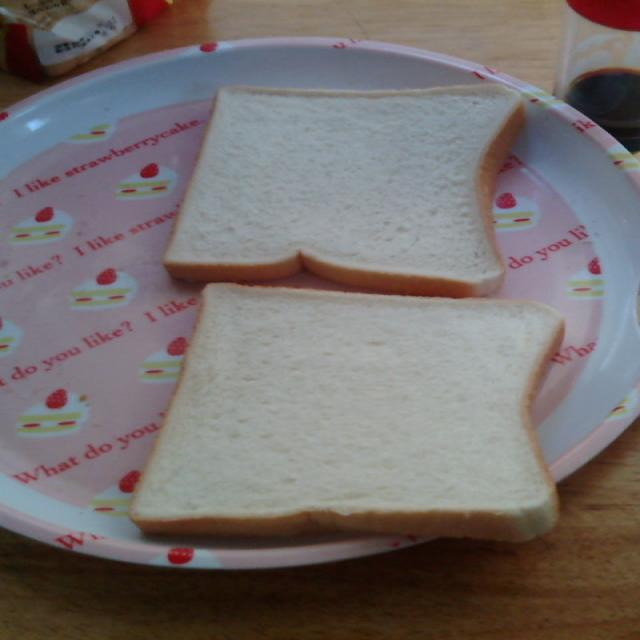面包点心: (124, 272, 571, 545), (149, 64, 535, 292)
